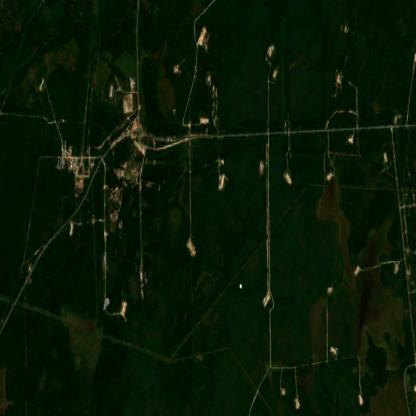oil: (96, 295, 114, 322), (99, 248, 110, 272)
